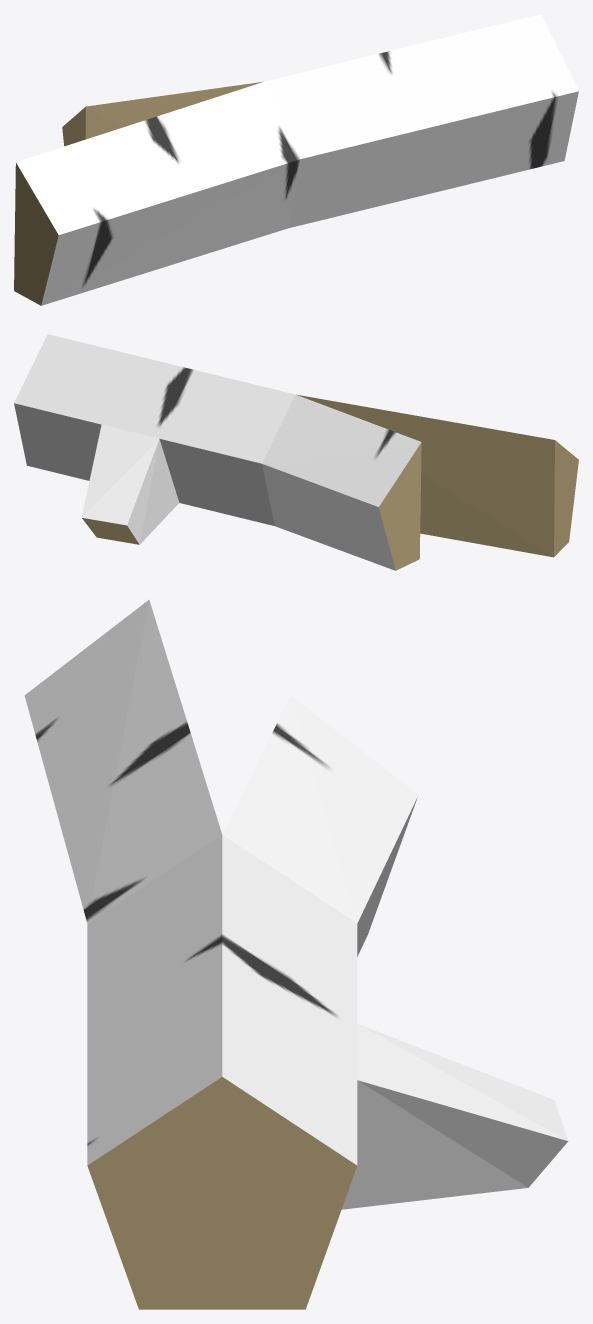
File: Birch_Firewood_04_LOD.fbx
3 views of the same model, one above another, from view 1: azimuth 30°, elevation 25°; view 2: azimuth 150°, elevation 25°; view 3: azimuth 270°, elevation 25° (orthographic). The views are drawn at different scales.
Parts seen in each view (by area): view 1: Birch_Firewood_04_LOD0; view 2: Birch_Firewood_04_LOD0; view 3: Birch_Firewood_04_LOD0.
Boxes of the visible parts, x1=… form: Birch_Firewood_04_LOD0: x1=14, y1=14, x2=578, y2=305; Birch_Firewood_04_LOD0: x1=14, y1=334, x2=578, y2=570; Birch_Firewood_04_LOD0: x1=24, y1=600, x2=568, y2=1309.
Size of what is drawn, in the model's own units: 55.27 by 12.61 by 26.6.
